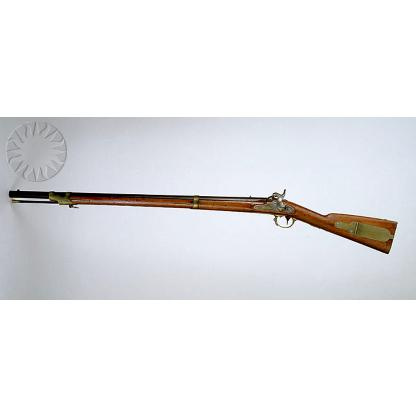gun: (7, 188, 398, 250)
